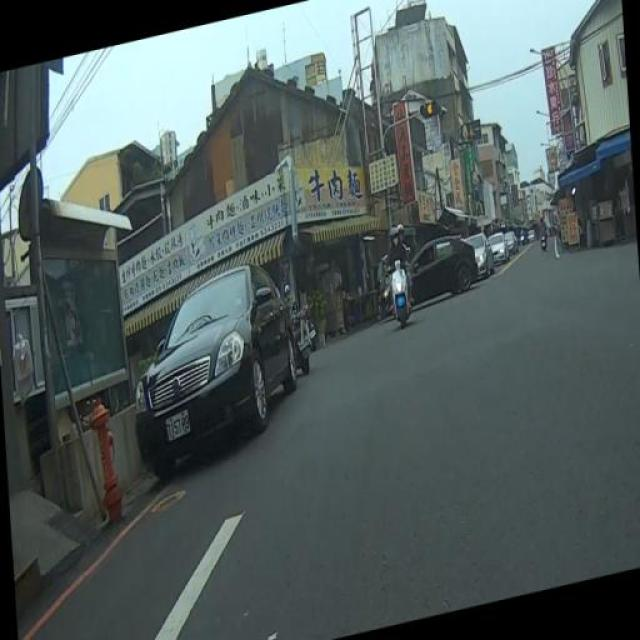illegalparking: (110, 224, 324, 498)
